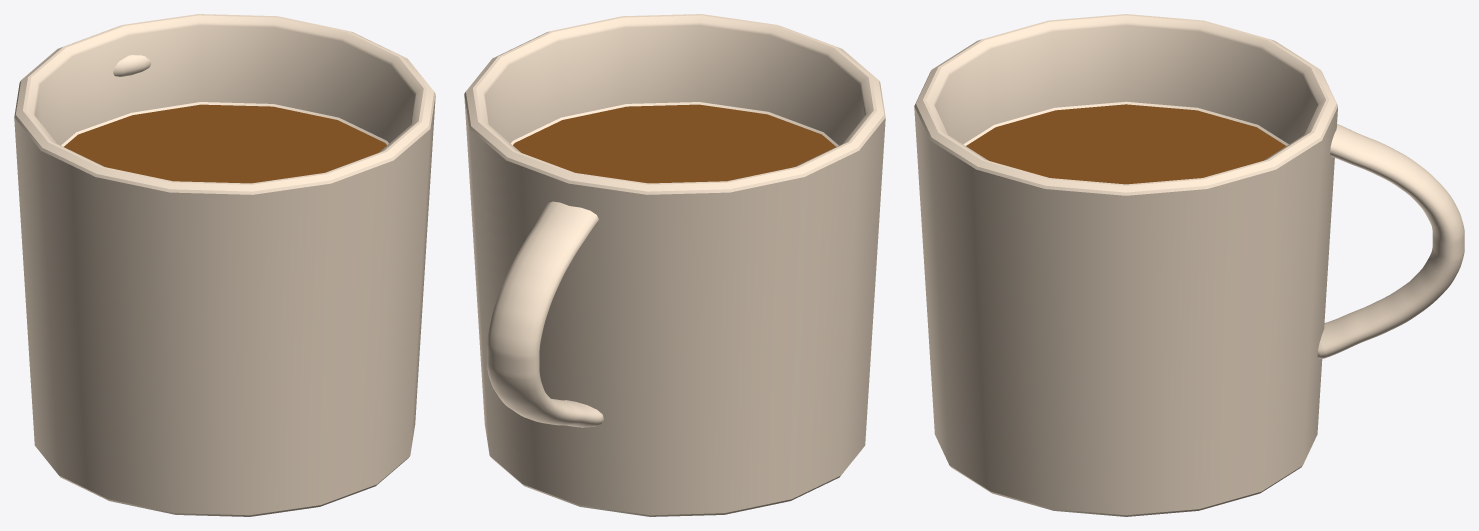
The model's file is CoffeeMugFull.fbx.
3 renders of one model, left to right at view 1: azimuth 30°, elevation 25°; view 2: azimuth 150°, elevation 25°; view 3: azimuth 270°, elevation 25°, orthographic.
Visible parts, largest first — view 1: MugCoffee.001; view 2: MugCoffee.001; view 3: MugCoffee.001.
Part boxes in pixels (x1,y1,x2,y2): MugCoffee.001: (14,14,435,516); MugCoffee.001: (464,14,885,516); MugCoffee.001: (914,14,1464,516).
Bounding box in the file's own units: 88.67 × 80.14 × 115.
